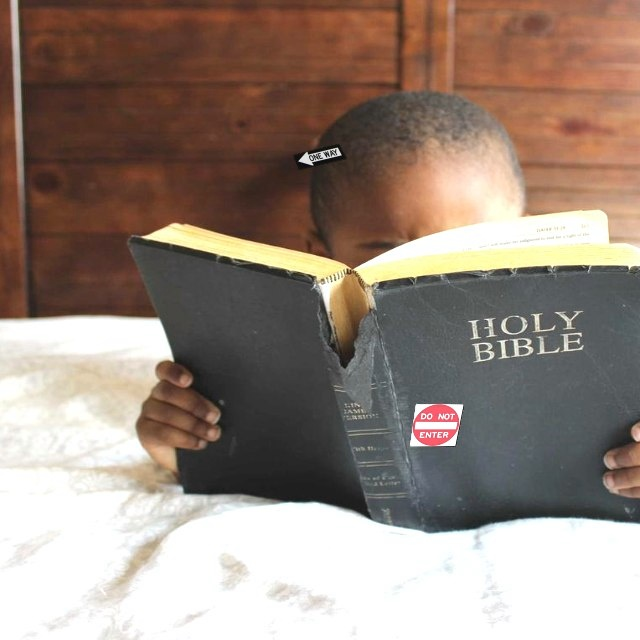DO_NOT_ENTER: (409, 403, 464, 447)
ONE_WAY_ left: (292, 143, 347, 170)
